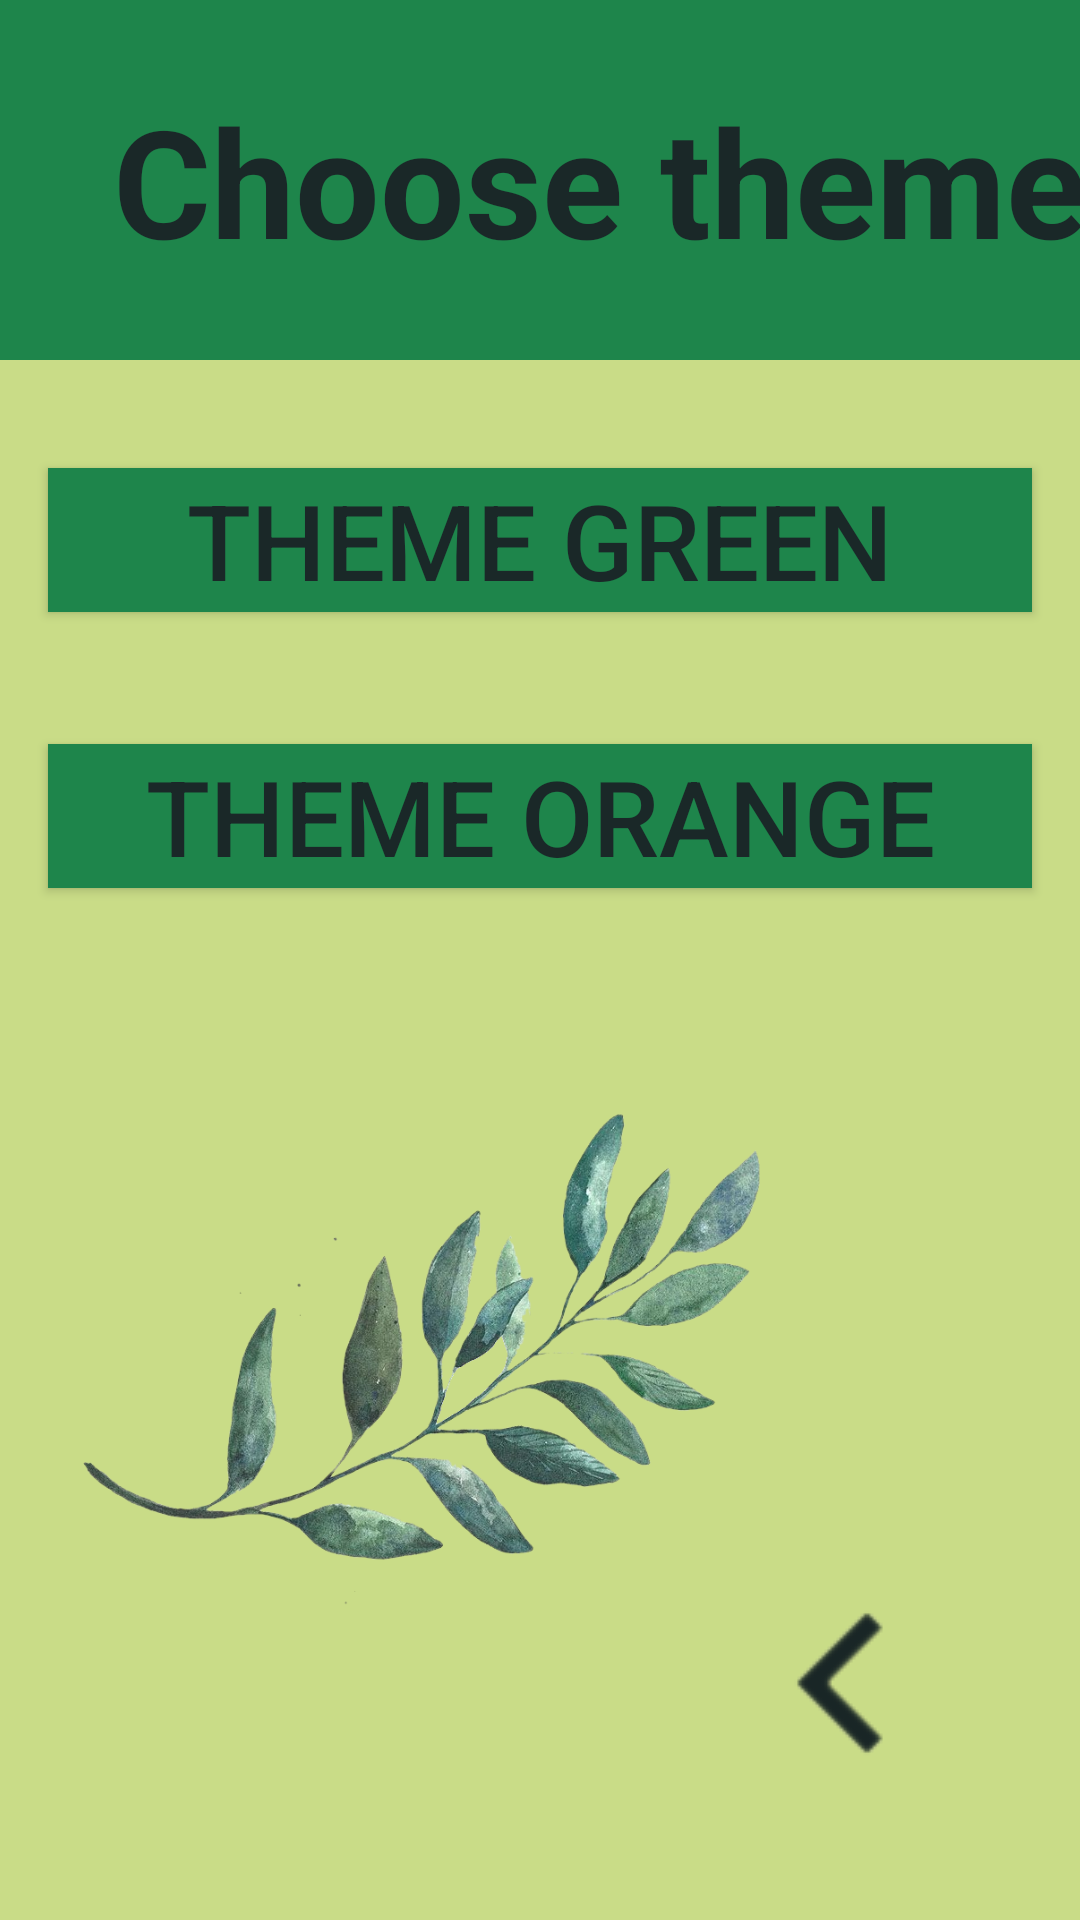

Icon click points for this 1080px x 1920px phone screenshot, format point (x, y):
navigate before: point (840, 1683)
